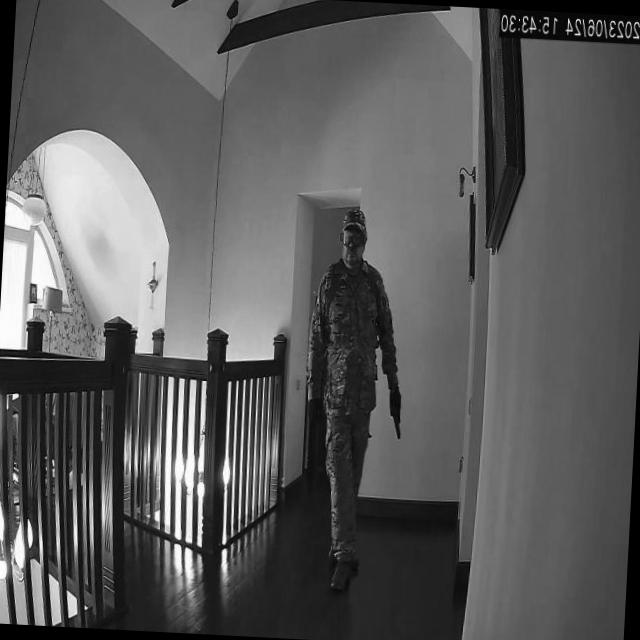gun: (389, 388, 404, 442)
person with a gun: (295, 205, 401, 598)
